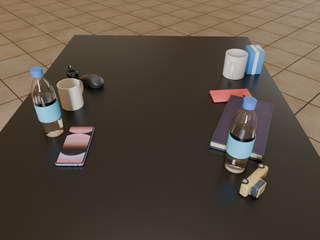book: (210, 95, 274, 162)
bottle: (224, 97, 258, 173), (30, 67, 64, 137)
box: (244, 45, 265, 74)
cup: (57, 79, 83, 111), (223, 49, 248, 80)
mouse: (80, 74, 104, 88)
phone: (55, 126, 94, 165), (210, 89, 252, 102)
toy_car: (239, 163, 268, 198)
